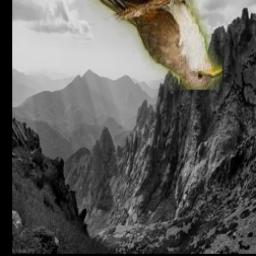Cuckoo: (88, 0, 223, 91)
